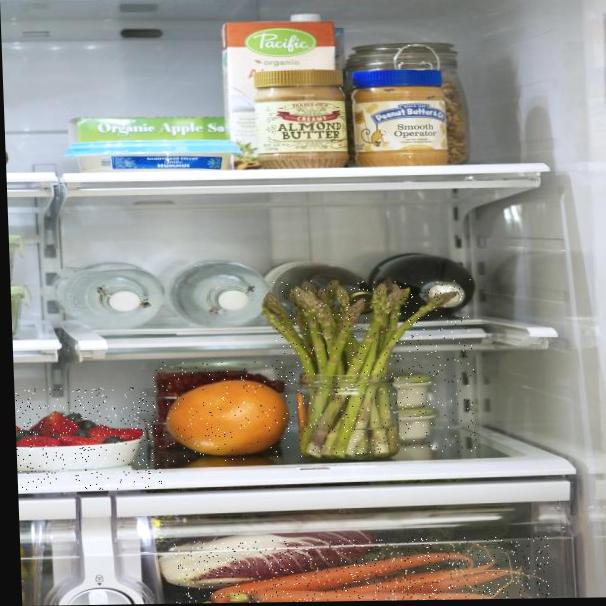asparagus: (273, 278, 478, 455)
carrots: (173, 536, 550, 604)
orange: (145, 360, 303, 462)
strawberries: (14, 387, 163, 491)
